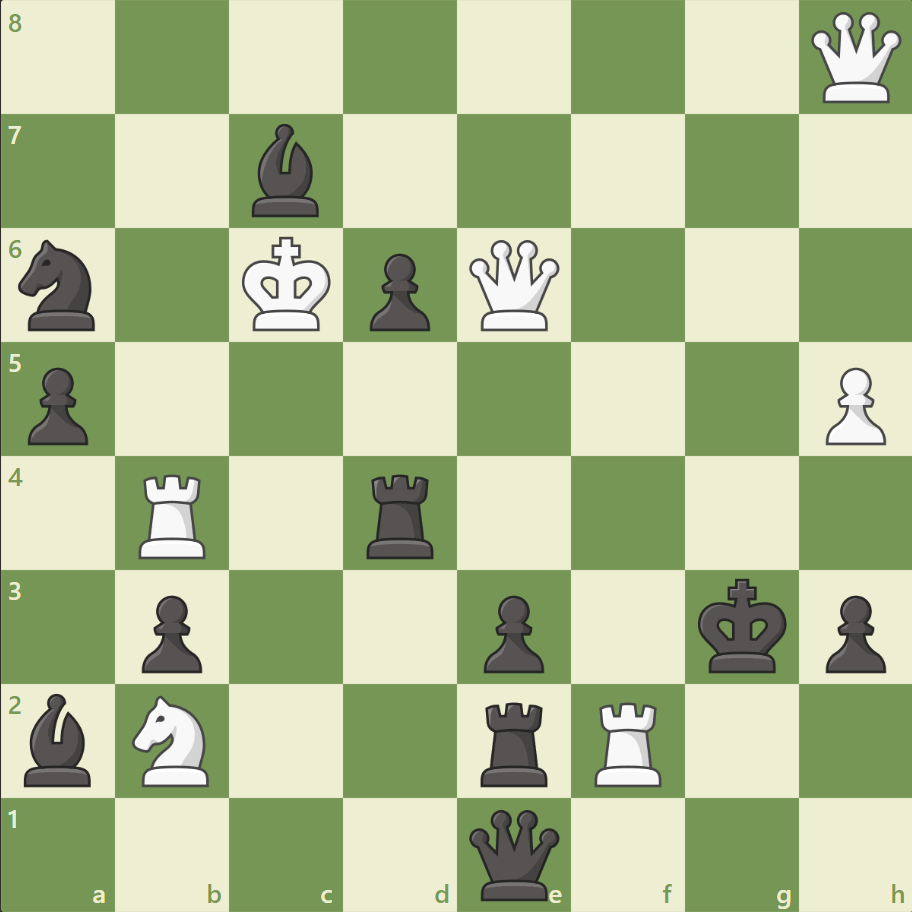K: (238, 231, 338, 339)
N: (124, 688, 222, 791)
P: (815, 359, 889, 450)
Q: (805, 9, 904, 108), (464, 236, 563, 335)
R: (587, 693, 670, 790), (133, 466, 215, 563)
b: (17, 687, 101, 790), (244, 120, 328, 222)
k: (692, 571, 792, 679)
n: (11, 234, 108, 337)
p: (20, 359, 95, 450), (133, 586, 208, 677), (474, 586, 549, 677), (361, 246, 435, 337), (815, 586, 889, 677)
q: (464, 804, 563, 903)
r: (473, 693, 556, 790), (360, 466, 442, 563)
